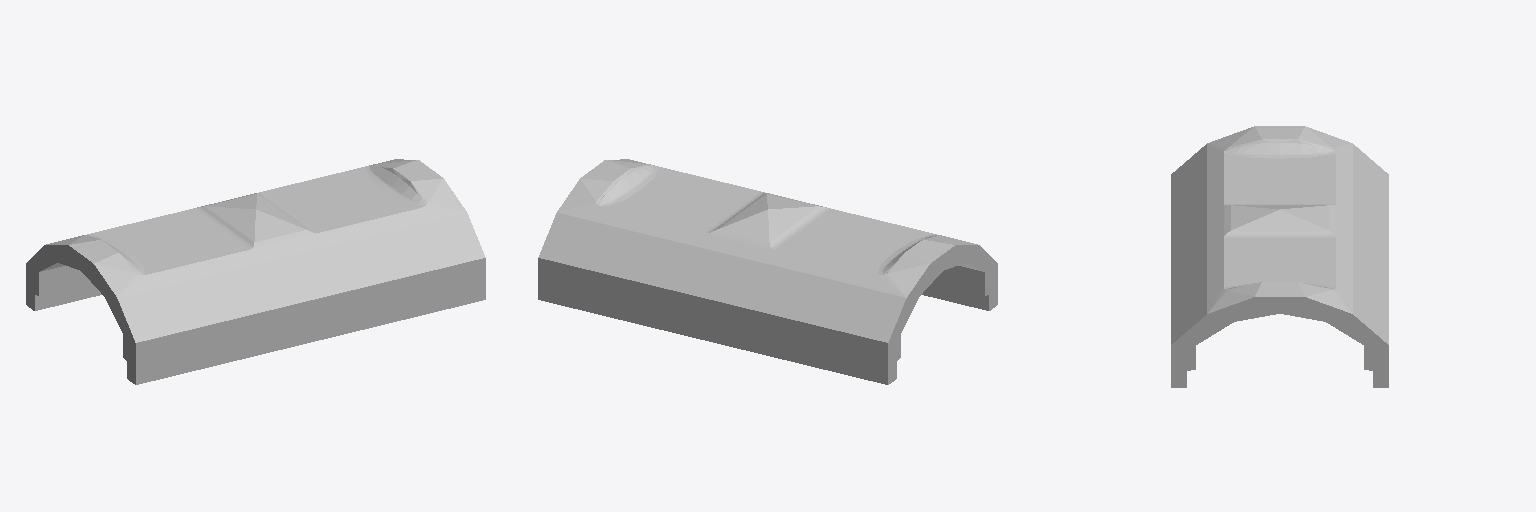
The model's file is 78. Сухарь синхронизатора.obj.
The picture shows the model from 3 angles: view 1: azimuth 30°, elevation 25°; view 2: azimuth 150°, elevation 25°; view 3: azimuth 270°, elevation 25°; orthographic projection.
Visible parts, largest first — view 1: Твердое тело1; view 2: Твердое тело1; view 3: Твердое тело1.
Boxes of the visible parts, x1,y1,x2,y2 form: Твердое тело1: [26, 159, 485, 384]; Твердое тело1: [538, 159, 997, 384]; Твердое тело1: [1171, 126, 1388, 387].
Bounding box in the file's own units: 24 × 6.1 × 13.